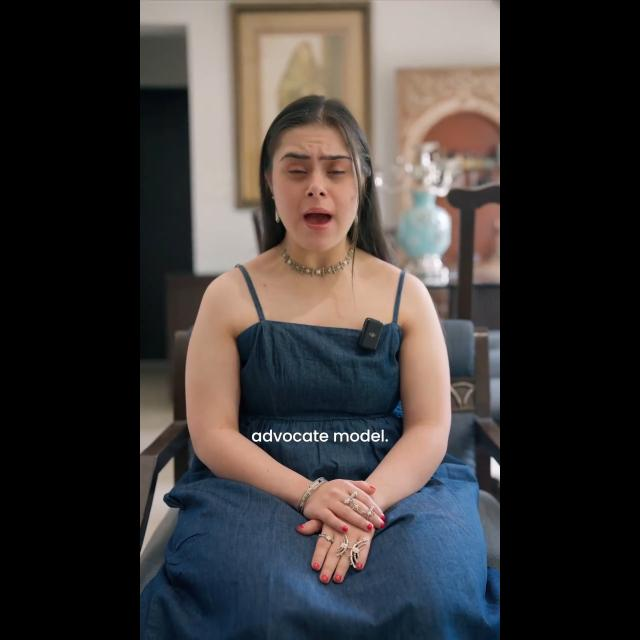dress: (177, 258, 488, 638)
